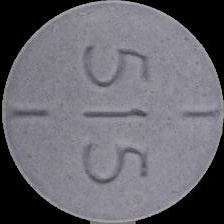60846-803: (0, 0, 224, 224)
